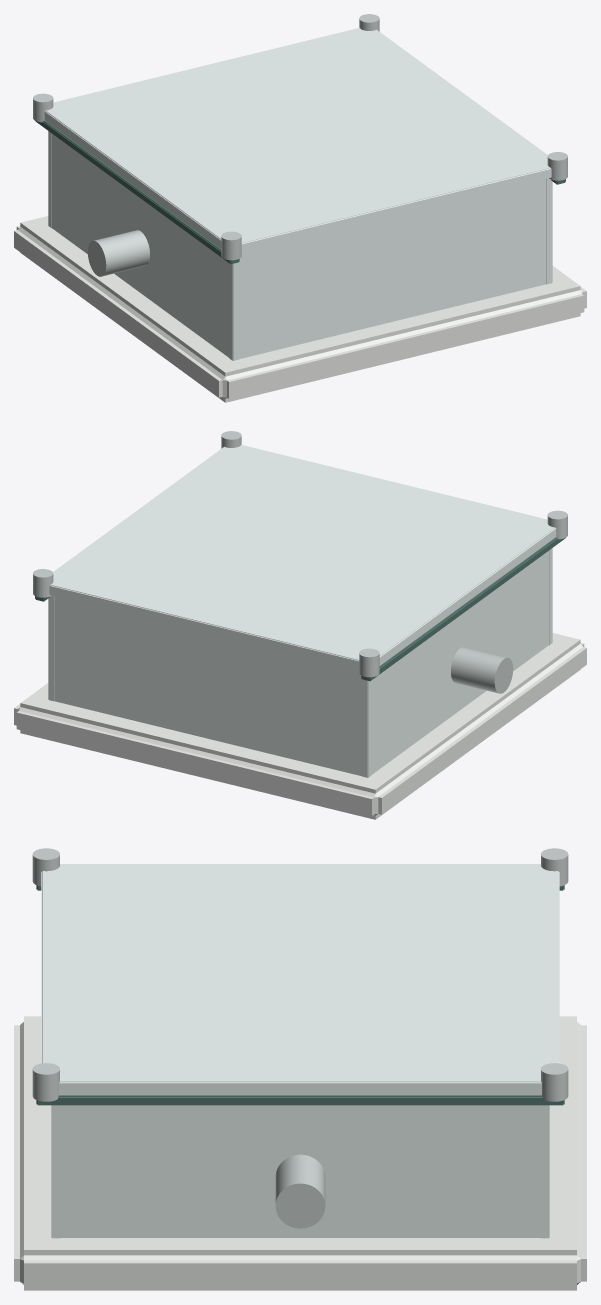
Rendered from perfusion_chamber.glb.
3 renders of one model, top to bottom at view 1: azimuth 30°, elevation 25°; view 2: azimuth 150°, elevation 25°; view 3: azimuth 270°, elevation 25°, orthographic. The views are drawn at different scales.
Visible parts, largest first — view 1: Chamber_Glass_Lid, Chamber_Glass_End_-0.98, Chamber_Base, Chamber_Glass_Side_-0.98, Chamber_Port_-1.02, Chamber_Gasket_-1.02, Chamber_Glass_Side_0.98, Chamber_Fastener_-1.02_-1.02, Chamber_Fastener_1.02_-1.02; view 2: Chamber_Glass_Lid, Chamber_Glass_End_0.98, Chamber_Base, Chamber_Glass_Side_-0.98, Chamber_Port_-1.02, Chamber_Gasket_-1.02, Chamber_Glass_Side_0.98, Chamber_Fastener_-1.02_1.02, Chamber_Fastener_1.02_1.02; view 3: Chamber_Glass_Lid, Chamber_Glass_Side_0.98, Chamber_Base, Chamber_Gasket_1.02, Chamber_Port_1.02, Chamber_Glass_End_-0.98, Chamber_Glass_End_0.98, Chamber_Fastener_1.02_-1.02, Chamber_Fastener_1.02_1.02, Chamber_Fastener_-1.02_-1.02, Chamber_Fastener_-1.02_1.02.
Boxes of the visible parts, box(x1,y1,x2,y2) form: Chamber_Glass_Lid: box(44, 28, 551, 252); Chamber_Glass_End_-0.98: box(229, 179, 552, 360); Chamber_Base: box(14, 216, 586, 402); Chamber_Glass_Side_-0.98: box(52, 134, 238, 360); Chamber_Port_-1.02: box(87, 230, 149, 276); Chamber_Gasket_-1.02: box(35, 120, 239, 264); Chamber_Glass_Side_0.98: box(546, 178, 552, 284); Chamber_Fastener_-1.02_-1.02: box(221, 231, 241, 260); Chamber_Fastener_1.02_-1.02: box(547, 152, 567, 180); Chamber_Glass_Lid: box(49, 445, 556, 669); Chamber_Glass_End_0.98: box(48, 596, 371, 777); Chamber_Base: box(14, 633, 586, 819); Chamber_Glass_Side_-0.98: box(362, 551, 548, 777); Chamber_Port_-1.02: box(451, 647, 513, 693); Chamber_Gasket_-1.02: box(361, 537, 565, 681); Chamber_Glass_Side_0.98: box(48, 595, 54, 701); Chamber_Fastener_-1.02_1.02: box(359, 648, 379, 677); Chamber_Fastener_1.02_1.02: box(33, 569, 53, 597); Chamber_Glass_Lid: box(41, 864, 559, 1095); Chamber_Glass_Side_0.98: box(51, 1105, 549, 1237); Chamber_Base: box(14, 1016, 586, 1290); Chamber_Gasket_1.02: box(36, 1095, 564, 1105); Chamber_Port_1.02: box(275, 1154, 325, 1228); Chamber_Glass_End_-0.98: box(52, 1105, 60, 1238); Chamber_Glass_End_0.98: box(540, 1105, 548, 1238); Chamber_Fastener_1.02_-1.02: box(32, 1063, 59, 1101); Chamber_Fastener_1.02_1.02: box(541, 1063, 568, 1101); Chamber_Fastener_-1.02_-1.02: box(32, 848, 59, 886); Chamber_Fastener_-1.02_1.02: box(541, 848, 568, 886).
Bounding box in the file's own units: 2.54 × 0.94 × 2.3.
